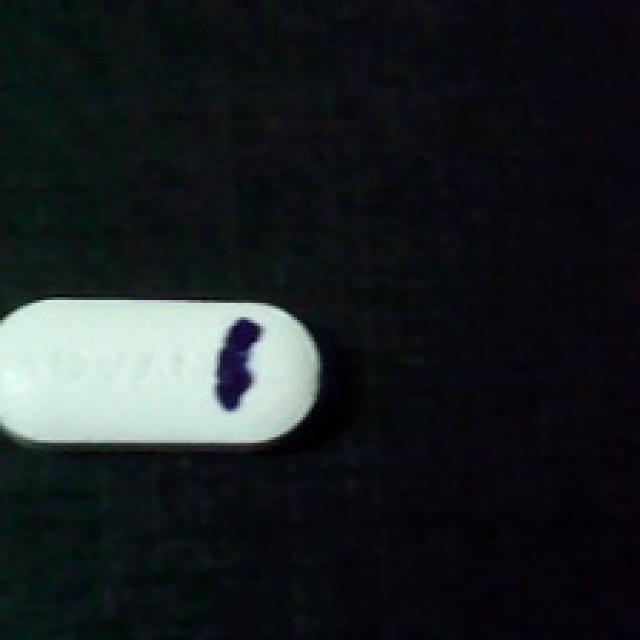defected: (0, 286, 320, 451)
